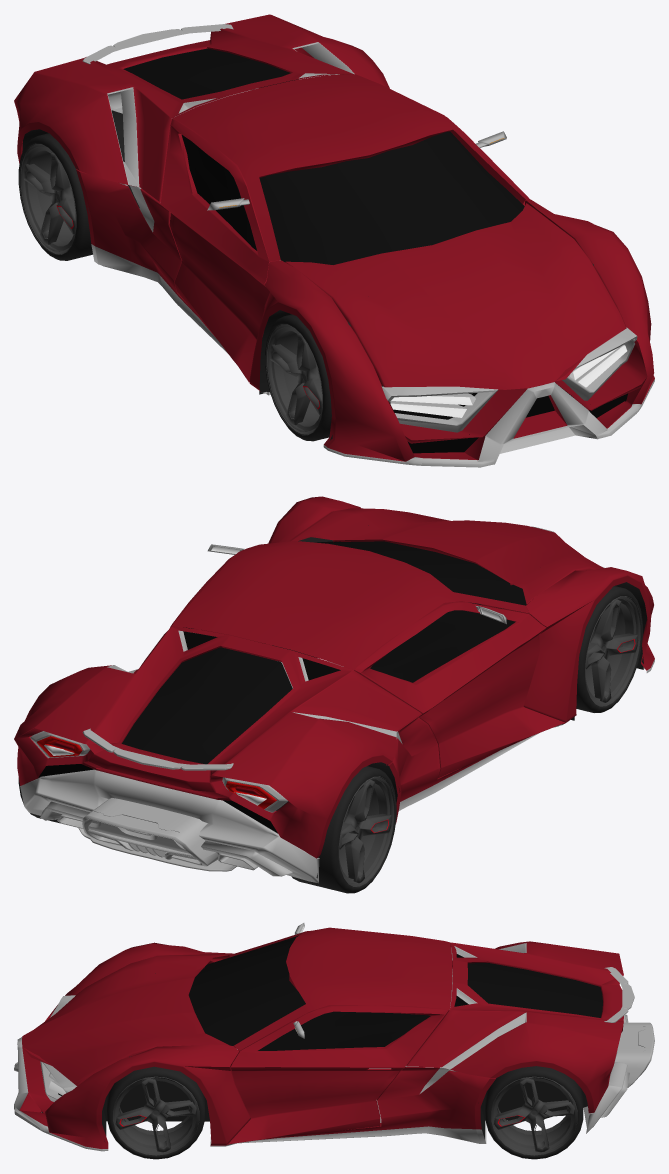
3 renders of one model, top to bottom at view 1: azimuth 30°, elevation 25°; view 2: azimuth 150°, elevation 25°; view 3: azimuth 270°, elevation 25°, orthographic. The views are drawn at different scales.
Parts seen in each view (by area): view 1: FC2, Wheel_RL, Wheel_FL, proppeler; view 2: FC2, proppeler, Wheel_RL, Wheel_FL; view 3: FC2, Wheel_RR, Wheel_FR, proppeler.
Part boxes in pixels (bbox=[...]): FC2: bbox=[14, 14, 654, 467]; Wheel_RL: bbox=[18, 133, 92, 260]; Wheel_FL: bbox=[265, 314, 331, 441]; proppeler: bbox=[82, 24, 233, 113]; FC2: bbox=[14, 496, 654, 883]; proppeler: bbox=[78, 728, 236, 871]; Wheel_RL: bbox=[291, 766, 396, 893]; Wheel_FL: bbox=[576, 586, 642, 712]; FC2: bbox=[14, 923, 629, 1151]; Wheel_RR: bbox=[485, 1066, 583, 1159]; Wheel_FR: bbox=[107, 1066, 204, 1159]; proppeler: bbox=[604, 967, 654, 1087].
Bounding box in the file's own units: 194 × 106 × 434.
